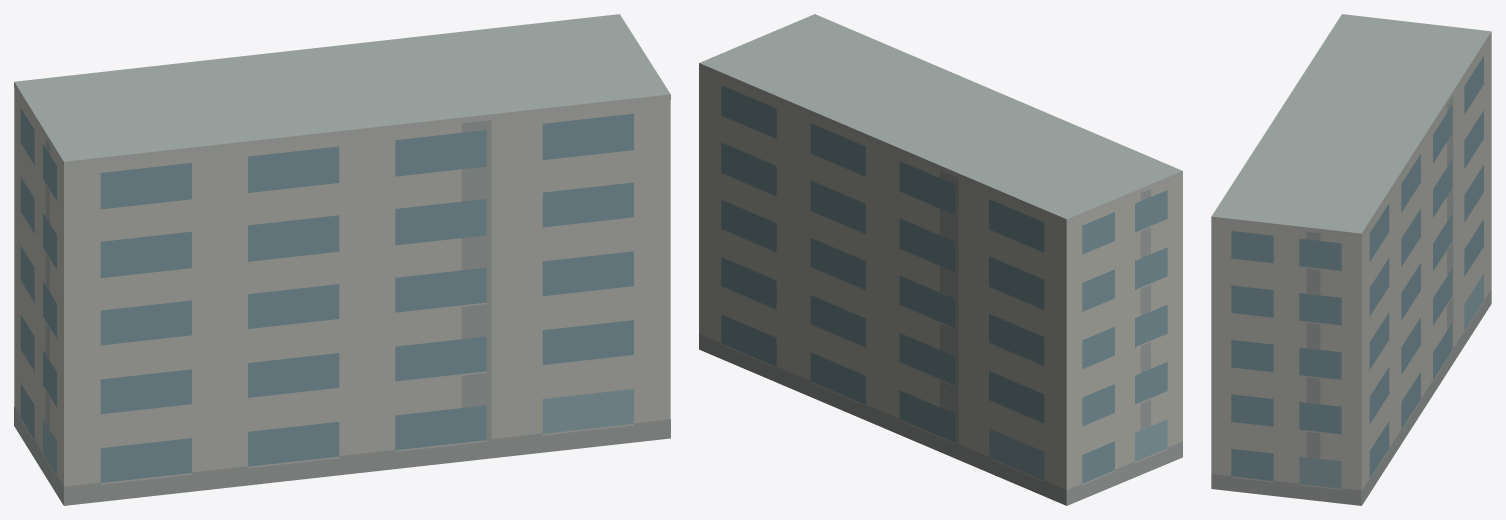
File: survey-upis-32950951.glb
3 renders of one model, left to right at view 1: azimuth 30°, elevation 25°; view 2: azimuth 150°, elevation 25°; view 3: azimuth 270°, elevation 25°, orthographic. The views are drawn at different scales.
Visible parts, largest first — view 1: survey-upis-32950951.tmp; view 2: survey-upis-32950951.tmp; view 3: survey-upis-32950951.tmp.
Boxes of the visible parts, <box> form: survey-upis-32950951.tmp: <box>14,14,670,505</box>; survey-upis-32950951.tmp: <box>699,14,1182,505</box>; survey-upis-32950951.tmp: <box>1211,14,1491,505</box>.
Bounding box in the file's own units: 25.25 × 14.6 × 13.63.
